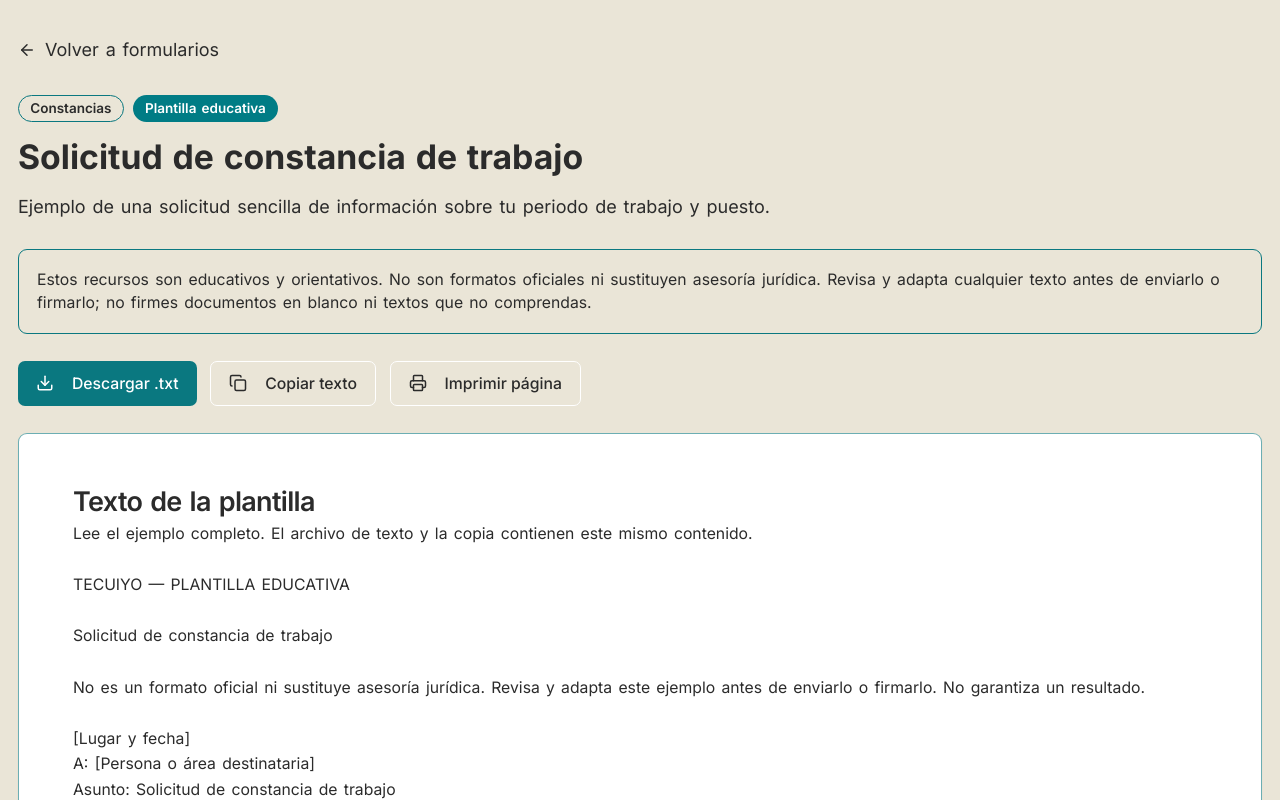
Scenario: Texto real de las plantillas › copia exactamente el contenido de la vista previa
What coordinates should you click on to do the following:
click the button "Copiar texto"
I would click on:
 (293, 383)
Its box is [210, 361, 376, 406].
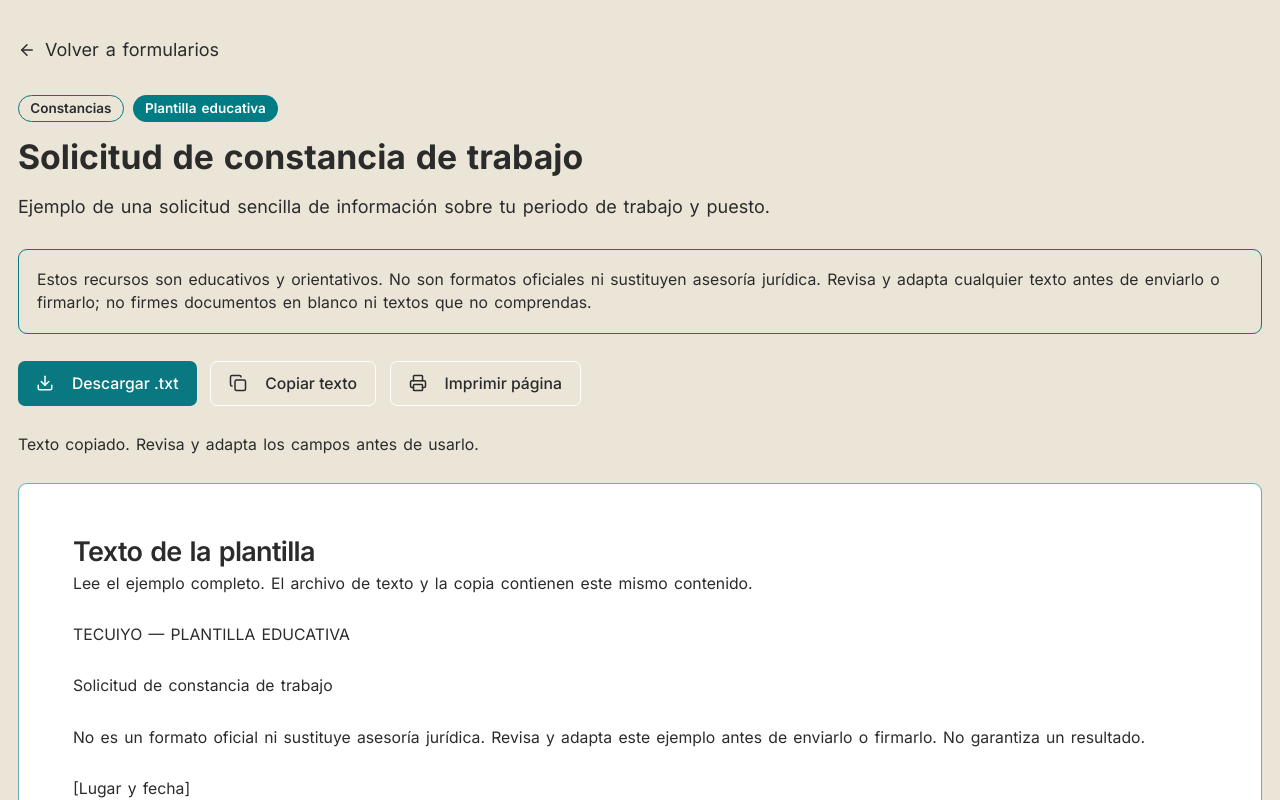
Check: the message "Texto copiado. Revisa y adapta los campos antes de usarlo." is shown, box [18, 435, 479, 454]
